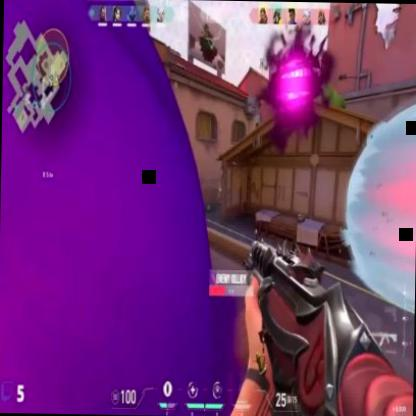enemy: (216, 182, 223, 206)
enemy_head: (218, 182, 221, 187)
